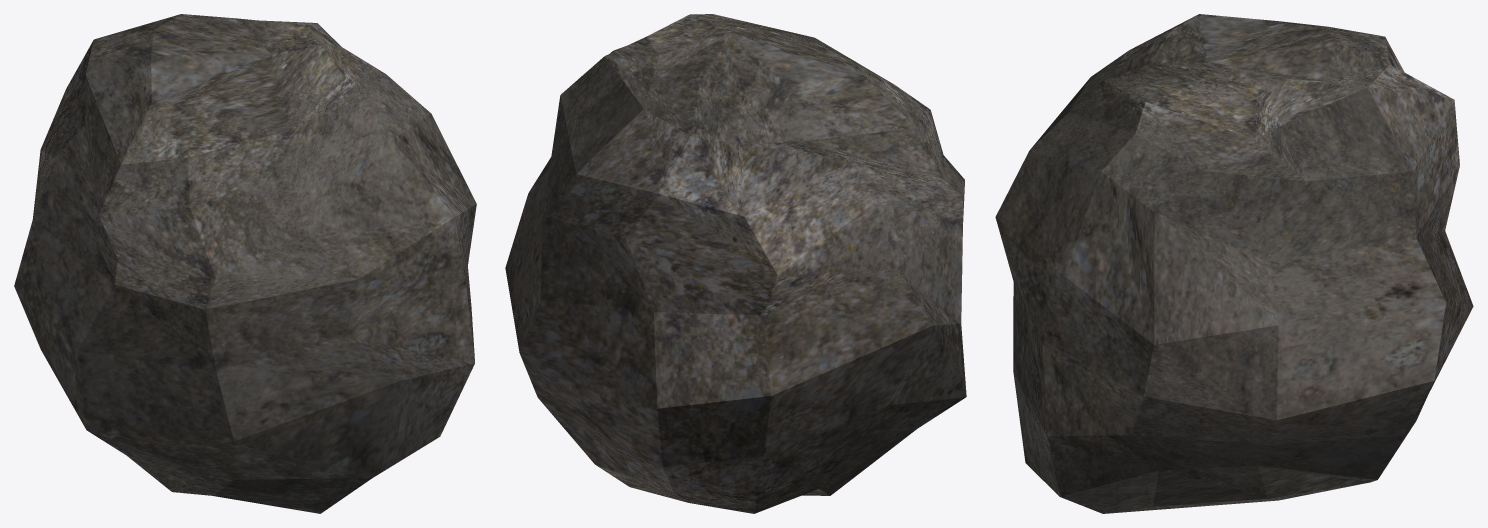
Rendered from Meteoriet3.fbx.
The picture shows the model from 3 angles, left to right: view 1: azimuth 30°, elevation 25°; view 2: azimuth 150°, elevation 25°; view 3: azimuth 270°, elevation 25°; orthographic projection. The views are drawn at different scales.
Parts seen in each view (by area): view 1: Sphere; view 2: Sphere; view 3: Sphere.
Part boxes in pixels (bbox=[...]): Sphere: bbox=[14, 14, 476, 513]; Sphere: bbox=[505, 14, 966, 513]; Sphere: bbox=[995, 14, 1473, 513].
Bounding box in the file's own units: 317 × 312 × 300.
